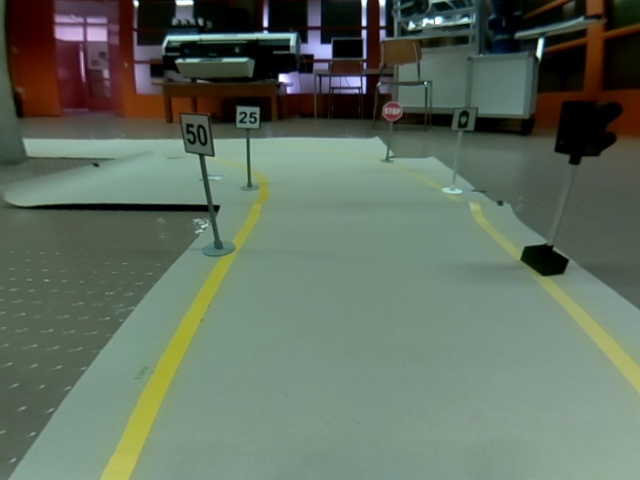battery: (450, 107, 478, 132)
speed25: (236, 105, 261, 129)
speed50: (179, 112, 215, 157)
stop: (382, 102, 403, 122)
trafficLightOff: (554, 100, 623, 157)
